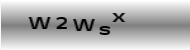2: (55, 16, 68, 30)
W: (28, 15, 51, 30), (73, 18, 96, 32)
s: (98, 25, 112, 35)
x: (111, 11, 126, 23)
